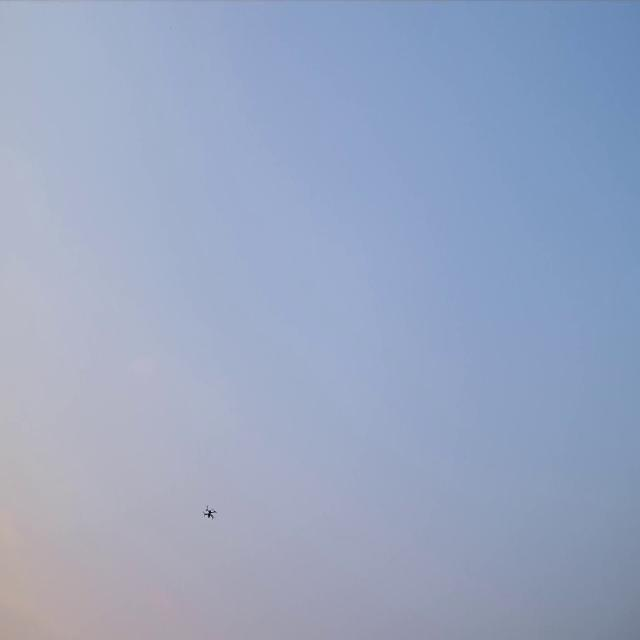UAV: (202, 507, 216, 520)
